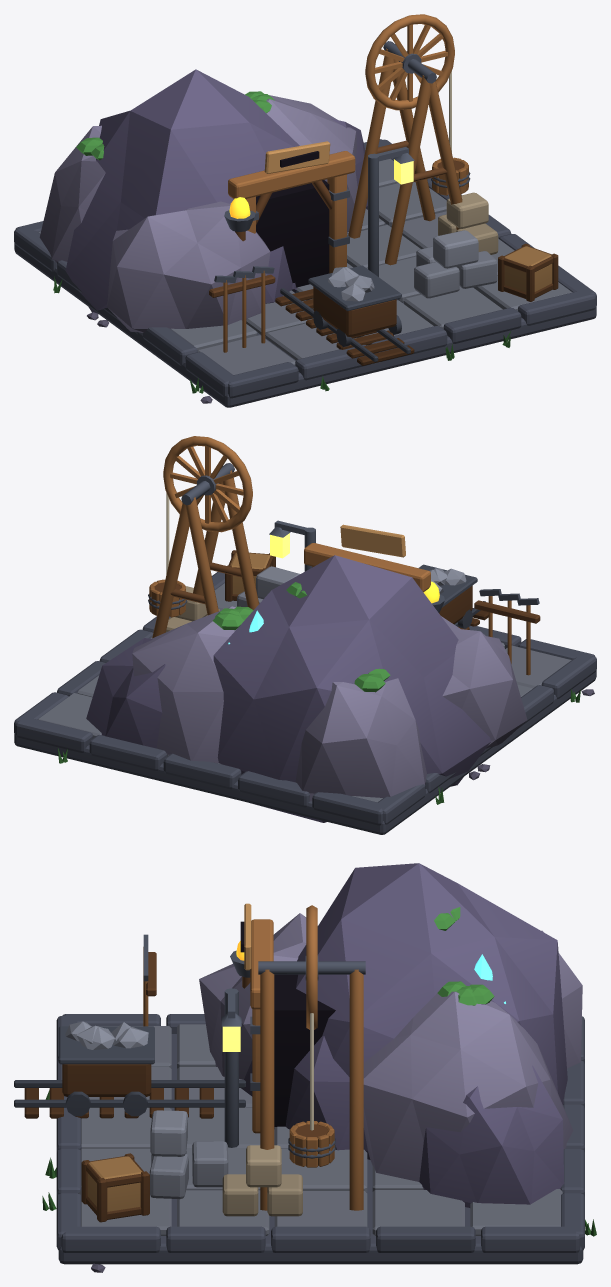
The model's file is stone_mine.glb.
3 renders of one model, top to bottom at view 1: azimuth 30°, elevation 25°; view 2: azimuth 150°, elevation 25°; view 3: azimuth 270°, elevation 25°, orthographic. The views are drawn at different scales.
Parts seen in each view (by area): view 1: t0_rock, t0_rock_light, t0_stone, t0_stone_dark, t0_wood, t0_wood_dark, t0_iron, t0_dark, wheel_t0_spinZ70_wood, t0_wood_light, t1_stone_warm, t0_moss; view 2: t0_rock, t0_rock_light, t0_stone_dark, t0_wood, t0_stone, wheel_t0_spinZ70_wood, t0_wood_dark, t0_iron, t0_wood_light, t0_moss, t1_stone_warm; view 3: t0_rock, t0_stone, t0_stone_dark, t0_rock_light, t0_wood, t0_iron, t0_wood_dark, t0_dark, t1_stone_warm, t0_wood_light, t0_moss, wheel_t0_spinZ70_wood.
Boxes of the visible parts, box(x1,y1,x2,y2) form: t0_rock: box(65, 69, 367, 314); t0_rock_light: box(39, 95, 362, 403); t0_stone: box(38, 158, 572, 374); t0_stone_dark: box(14, 139, 596, 407); t0_wood: box(223, 48, 468, 352); t0_wood_dark: box(209, 140, 558, 365); t0_iron: box(214, 41, 470, 361); t0_dark: box(256, 151, 329, 287); wheel_t0_spinZ70_wood: box(365, 14, 454, 110); t0_wood_light: box(264, 141, 552, 292); t1_stone_warm: box(438, 192, 498, 254); t0_moss: box(53, 91, 510, 393); t0_rock: box(86, 555, 490, 822); t0_rock_light: box(132, 606, 594, 801); t0_stone_dark: box(14, 572, 596, 834); t0_wood: box(149, 470, 530, 675); t0_stone: box(38, 566, 571, 802); wheel_t0_spinZ70_wood: box(163, 436, 252, 532); t0_wood_dark: box(154, 550, 540, 629); t0_iron: box(148, 463, 539, 628); t0_wood_light: box(230, 524, 405, 594); t0_moss: box(58, 582, 580, 804); t1_stone_warm: box(166, 586, 219, 632); t0_rock: box(241, 863, 567, 1207); t0_stone: box(65, 1021, 562, 1235); t0_stone_dark: box(56, 1014, 584, 1264); t0_rock_light: box(91, 913, 582, 1272); t0_wood: box(143, 919, 363, 1210); t0_iron: box(14, 934, 365, 1158); t0_wood_dark: box(24, 952, 328, 1222); t0_dark: box(240, 921, 335, 1126); t1_stone_warm: box(222, 1145, 302, 1216); t0_wood_light: box(87, 903, 251, 1211); t0_moss: box(42, 907, 596, 1236); wheel_t0_spinZ70_wood: box(306, 905, 317, 1029).
Size of the model in its own units: 3.13 by 2.14 by 3.27.
